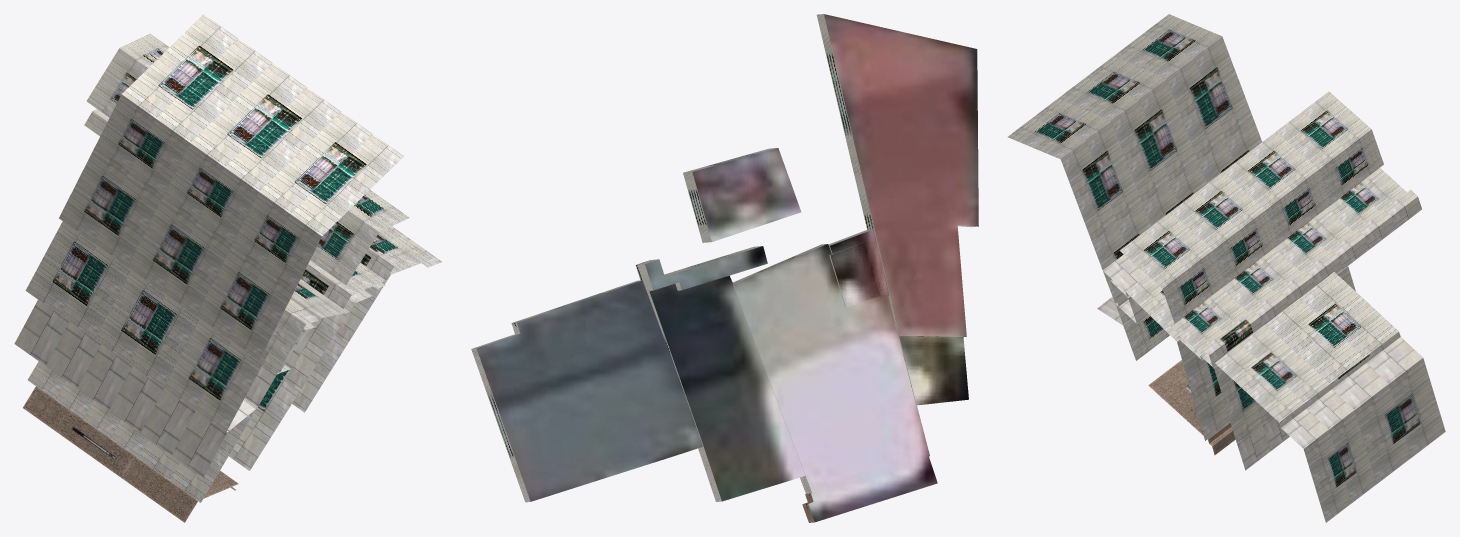
3 renders of one model, left to right at view 1: azimuth 30°, elevation 25°; view 2: azimuth 150°, elevation 25°; view 3: azimuth 270°, elevation 25°, orthographic. The views are drawn at different scales.
Size of the model in its own units: 21.74 by 22.69 by 21.91.
32 materials, 32 textured.
